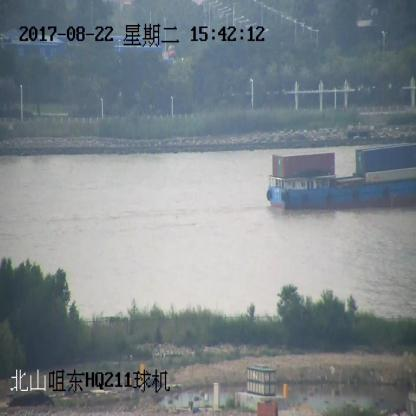Container Ship: (267, 145, 415, 209)
